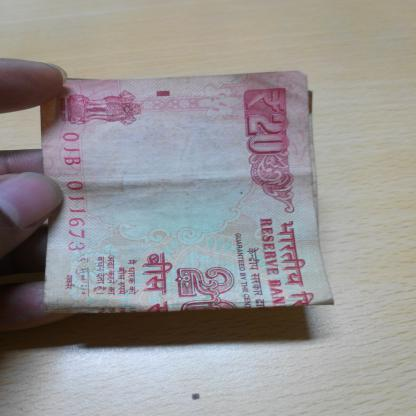Old20Front: (46, 82, 323, 313)
